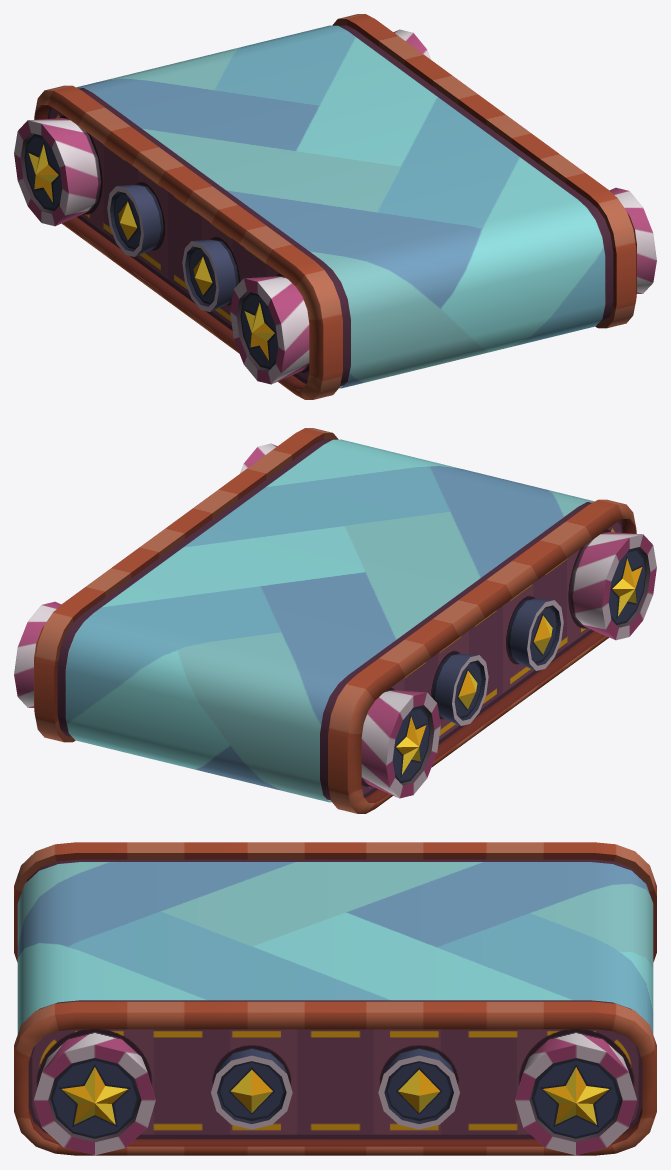
File: G_004_RunningMachine.FBX
The picture shows the model from 3 angles, top to bottom: view 1: azimuth 30°, elevation 25°; view 2: azimuth 150°, elevation 25°; view 3: azimuth 270°, elevation 25°; orthographic projection. The views are drawn at different scales.
Parts seen in each view (by area): view 1: rail, G_004_RunningMachine, wheel_1, wheel_4, wheel_3, wheel_2; view 2: rail, G_004_RunningMachine, wheel_4, wheel_1, wheel_2, wheel_3; view 3: rail, G_004_RunningMachine, wheel_4, wheel_1, wheel_2, wheel_3.
Part boxes in pixels (left/top/right/bottom): rail: left=76, top=25, right=605, bottom=388; G_004_RunningMachine: left=34, top=14, right=636, bottom=399; wheel_1: left=230, top=187, right=656, bottom=384; wheel_4: left=14, top=29, right=430, bottom=226; wheel_3: left=107, top=184, right=163, bottom=256; wheel_2: left=182, top=239, right=238, bottom=311; rail: left=65, top=439, right=594, bottom=802; G_004_RunningMachine: left=34, top=428, right=636, bottom=813; wheel_4: left=14, top=601, right=440, bottom=798; wheel_1: left=240, top=443, right=656, bottom=640; wheel_2: left=507, top=598, right=563, bottom=670; wheel_3: left=432, top=653, right=488, bottom=725; rail: left=17, top=862, right=653, bottom=1033; G_004_RunningMachine: left=14, top=842, right=656, bottom=1155; wheel_4: left=515, top=1032, right=636, bottom=1155; wheel_1: left=34, top=1032, right=155, bottom=1155; wheel_2: left=211, top=1048, right=292, bottom=1129; wheel_3: left=378, top=1048, right=459, bottom=1129.
Bounding box in the file's own units: 468 × 150 × 610.
